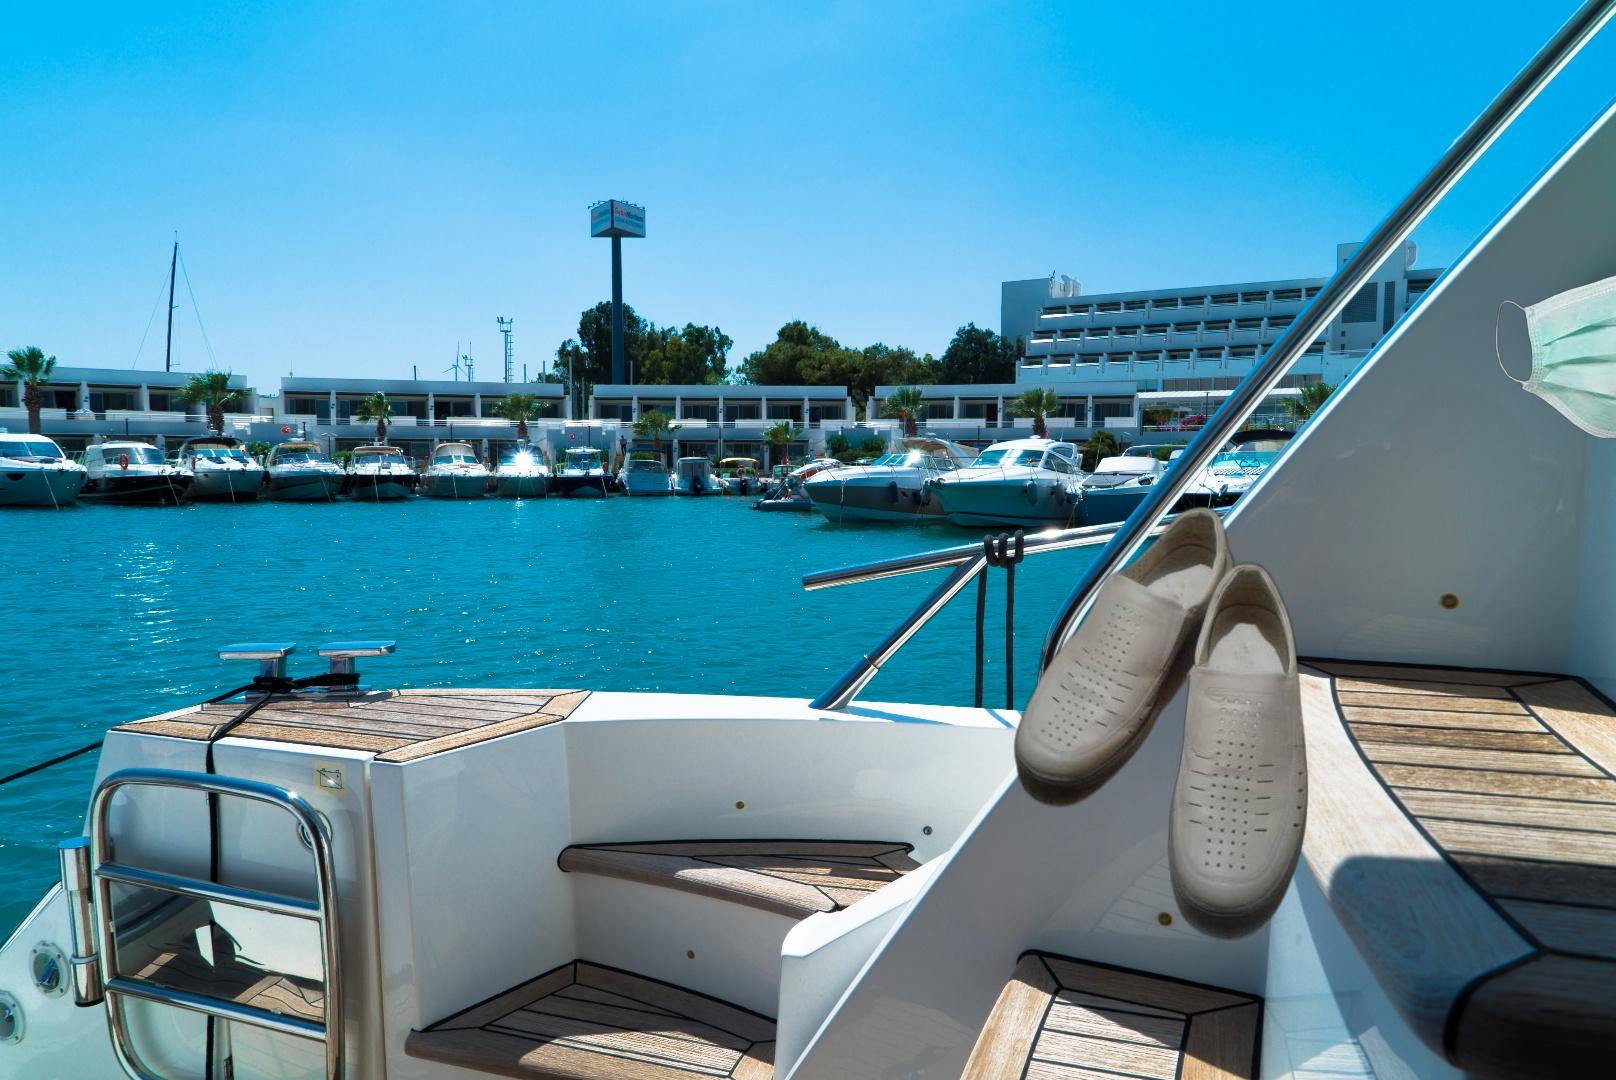shoes: (1010, 500, 1312, 947)
trash: (1493, 270, 1616, 441)
